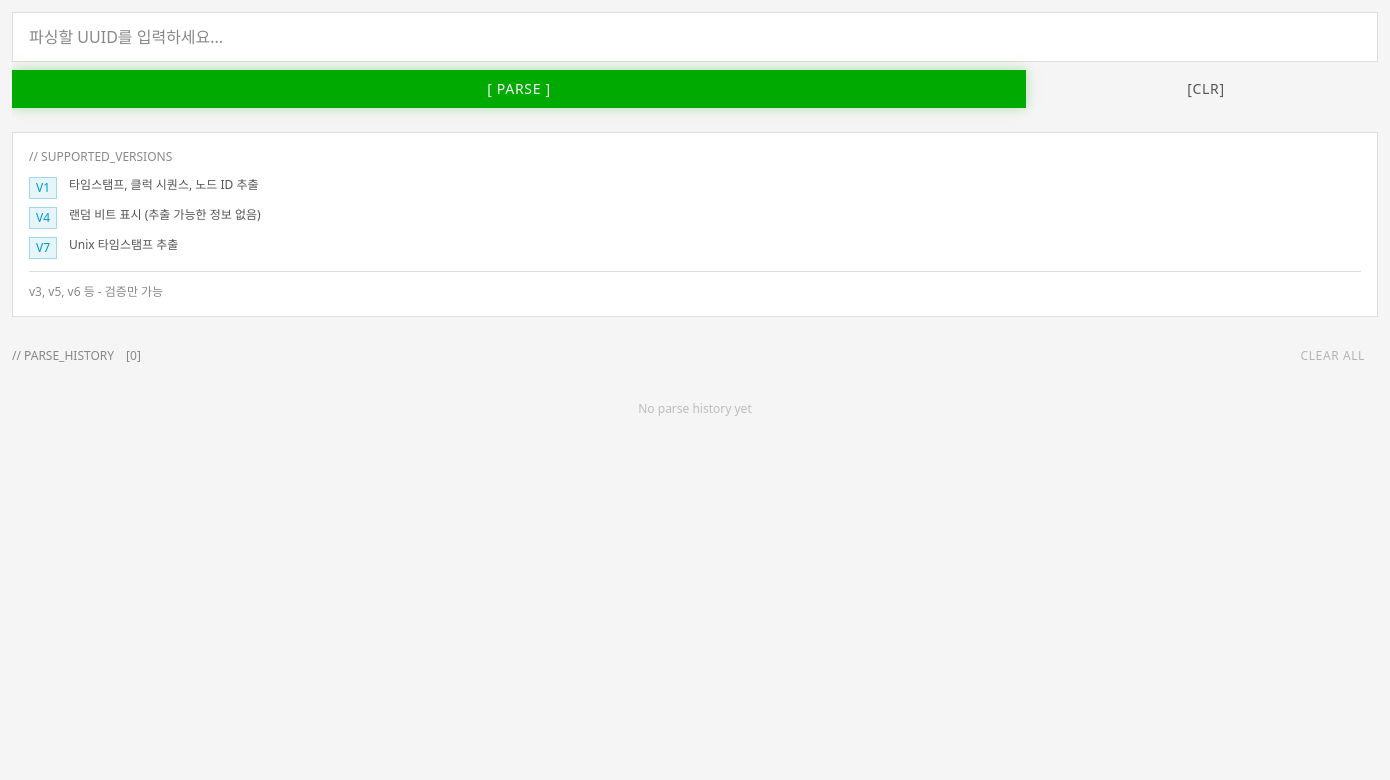
Test: UuidParser 히스토리 › 히스토리 Clear All 버튼이 동작해야 함
This screenshot has width=1390, height=780.
Type "550e8400-e29b-41d4-a716-446655440000" into the field with placeholder "파싱할 UUID를 입력하세요...".
click(695, 37); type("550e8400-e29b-41d4-a716-446655440000")  # box top-left (12, 12), bottom-right (1378, 62)
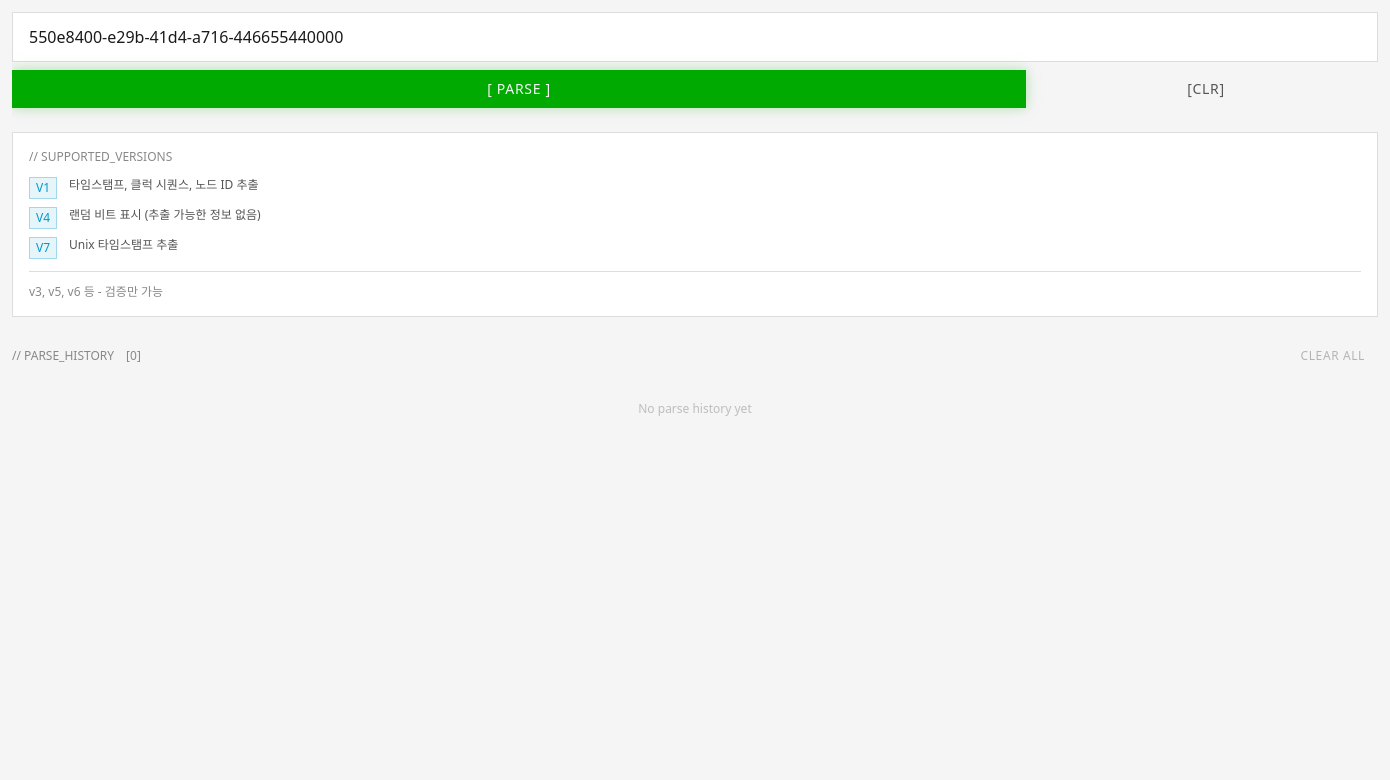
Click the text "[ PARSE ]".
click(519, 89)  # box top-left (487, 79), bottom-right (551, 99)
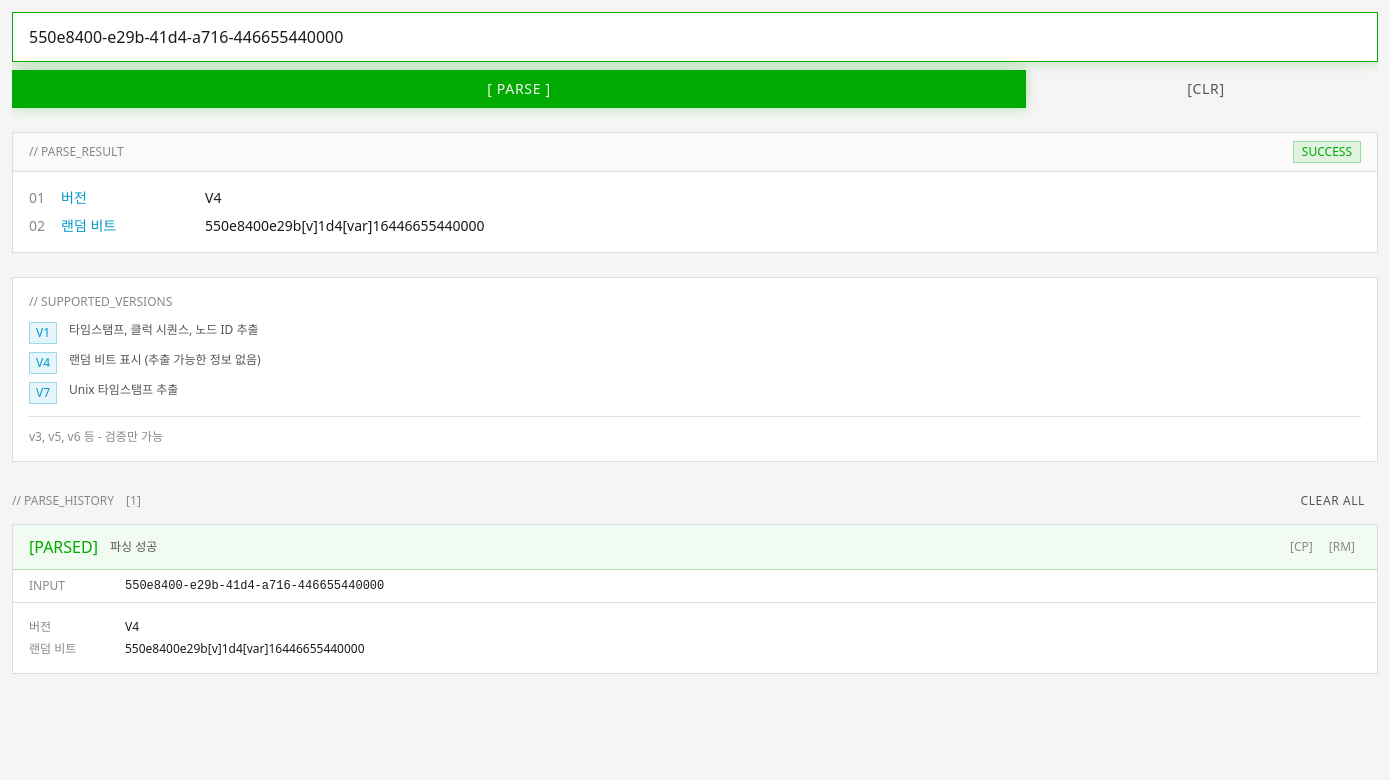
Check: the text "[1]" is shown, box top-left (126, 492), bottom-right (141, 509)
// Clear All 버튼 클릭
Click the button "Clear All".
click(1333, 501)  # box top-left (1288, 486), bottom-right (1378, 516)
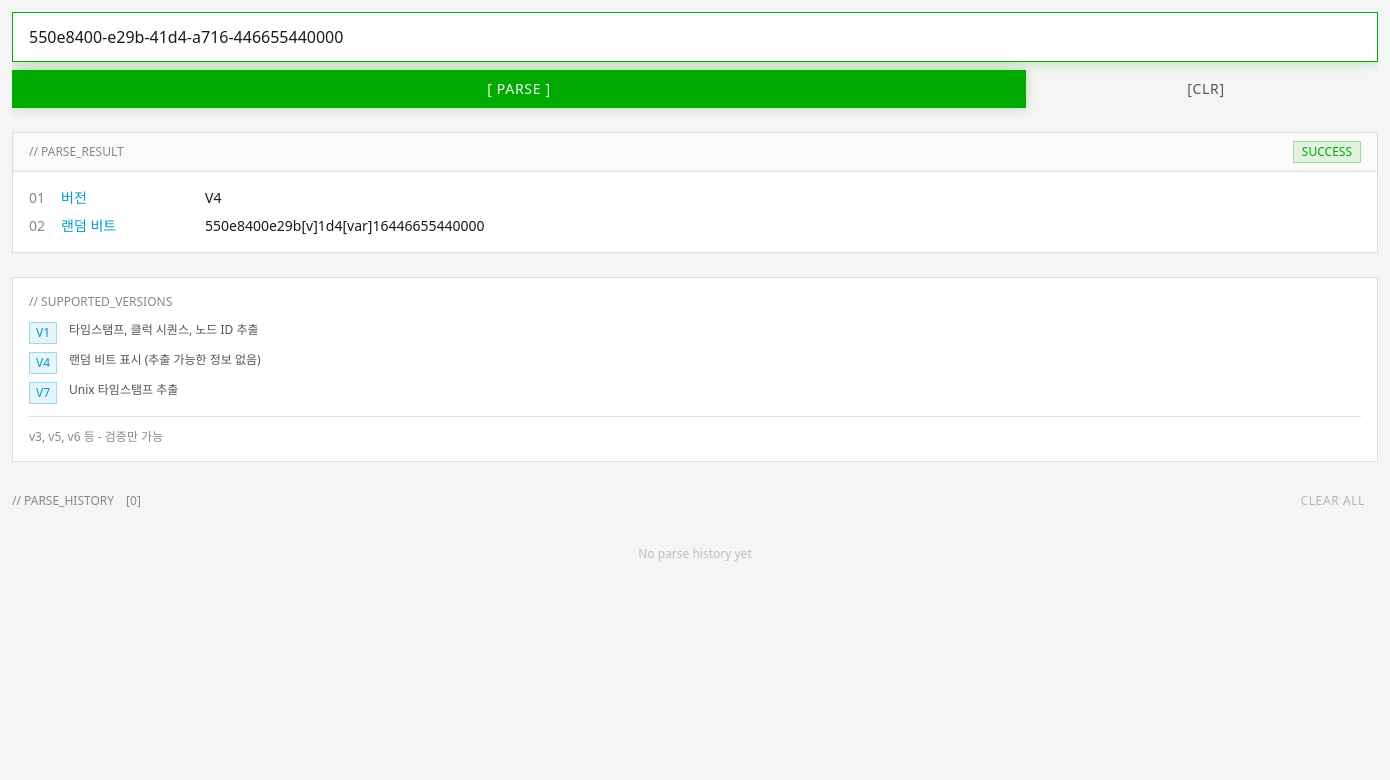
Check: the text "[0]" is shown, box top-left (126, 492), bottom-right (141, 509)
Check: the text "No parse history yet" is shown, box top-left (638, 545), bottom-right (752, 562)
